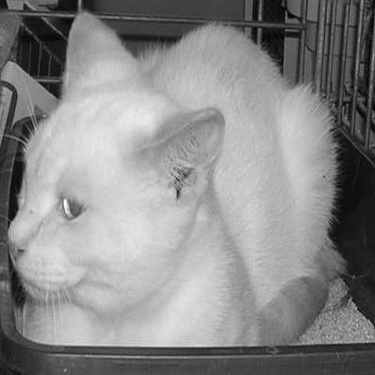cat: (7, 8, 341, 344)
